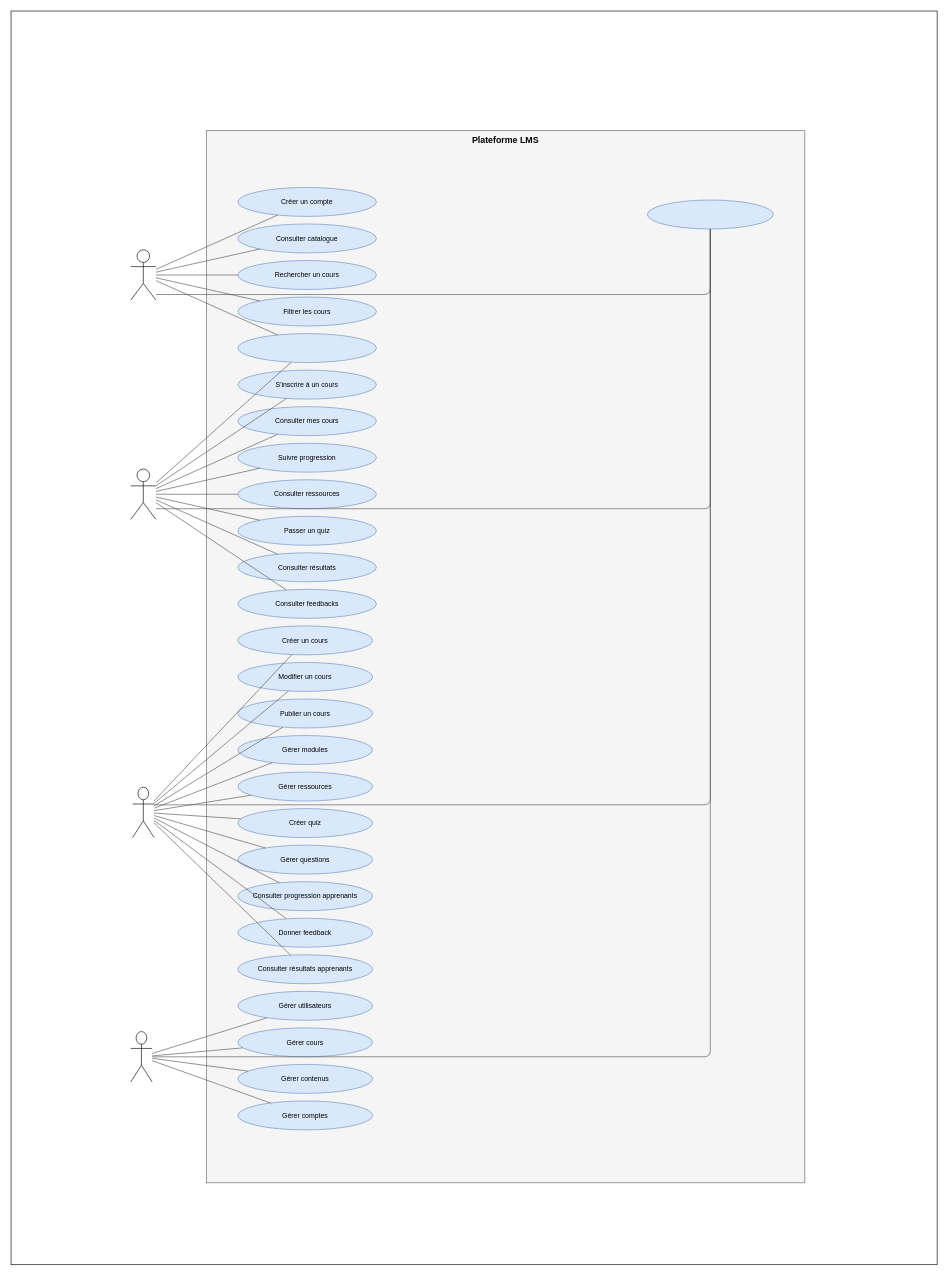
Some shapes in this 948 by 1276 pixel diagram are drawn without their labels. Here are the shapes that lost their labels. From the top down, the centre of each, then its label:
At point (710, 214): "Se connecter".
At point (143, 274): "Visiteur".
At point (306, 348): "Consulter détail cours".
At point (143, 493): "Apprenant".
At point (143, 812): "Formateur".
At point (141, 1056): "Administrateur".
